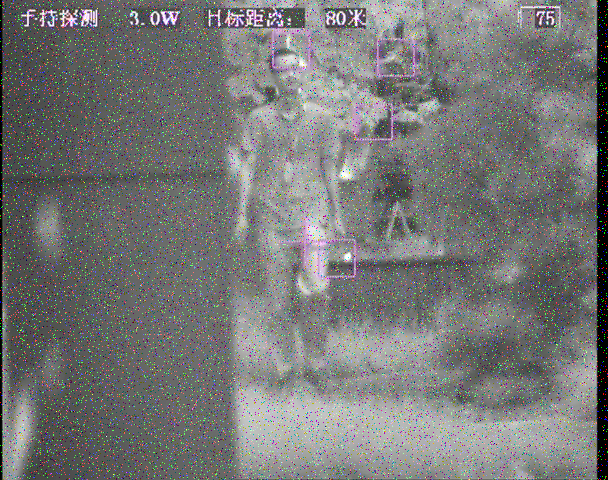my: (342, 250, 352, 262)
